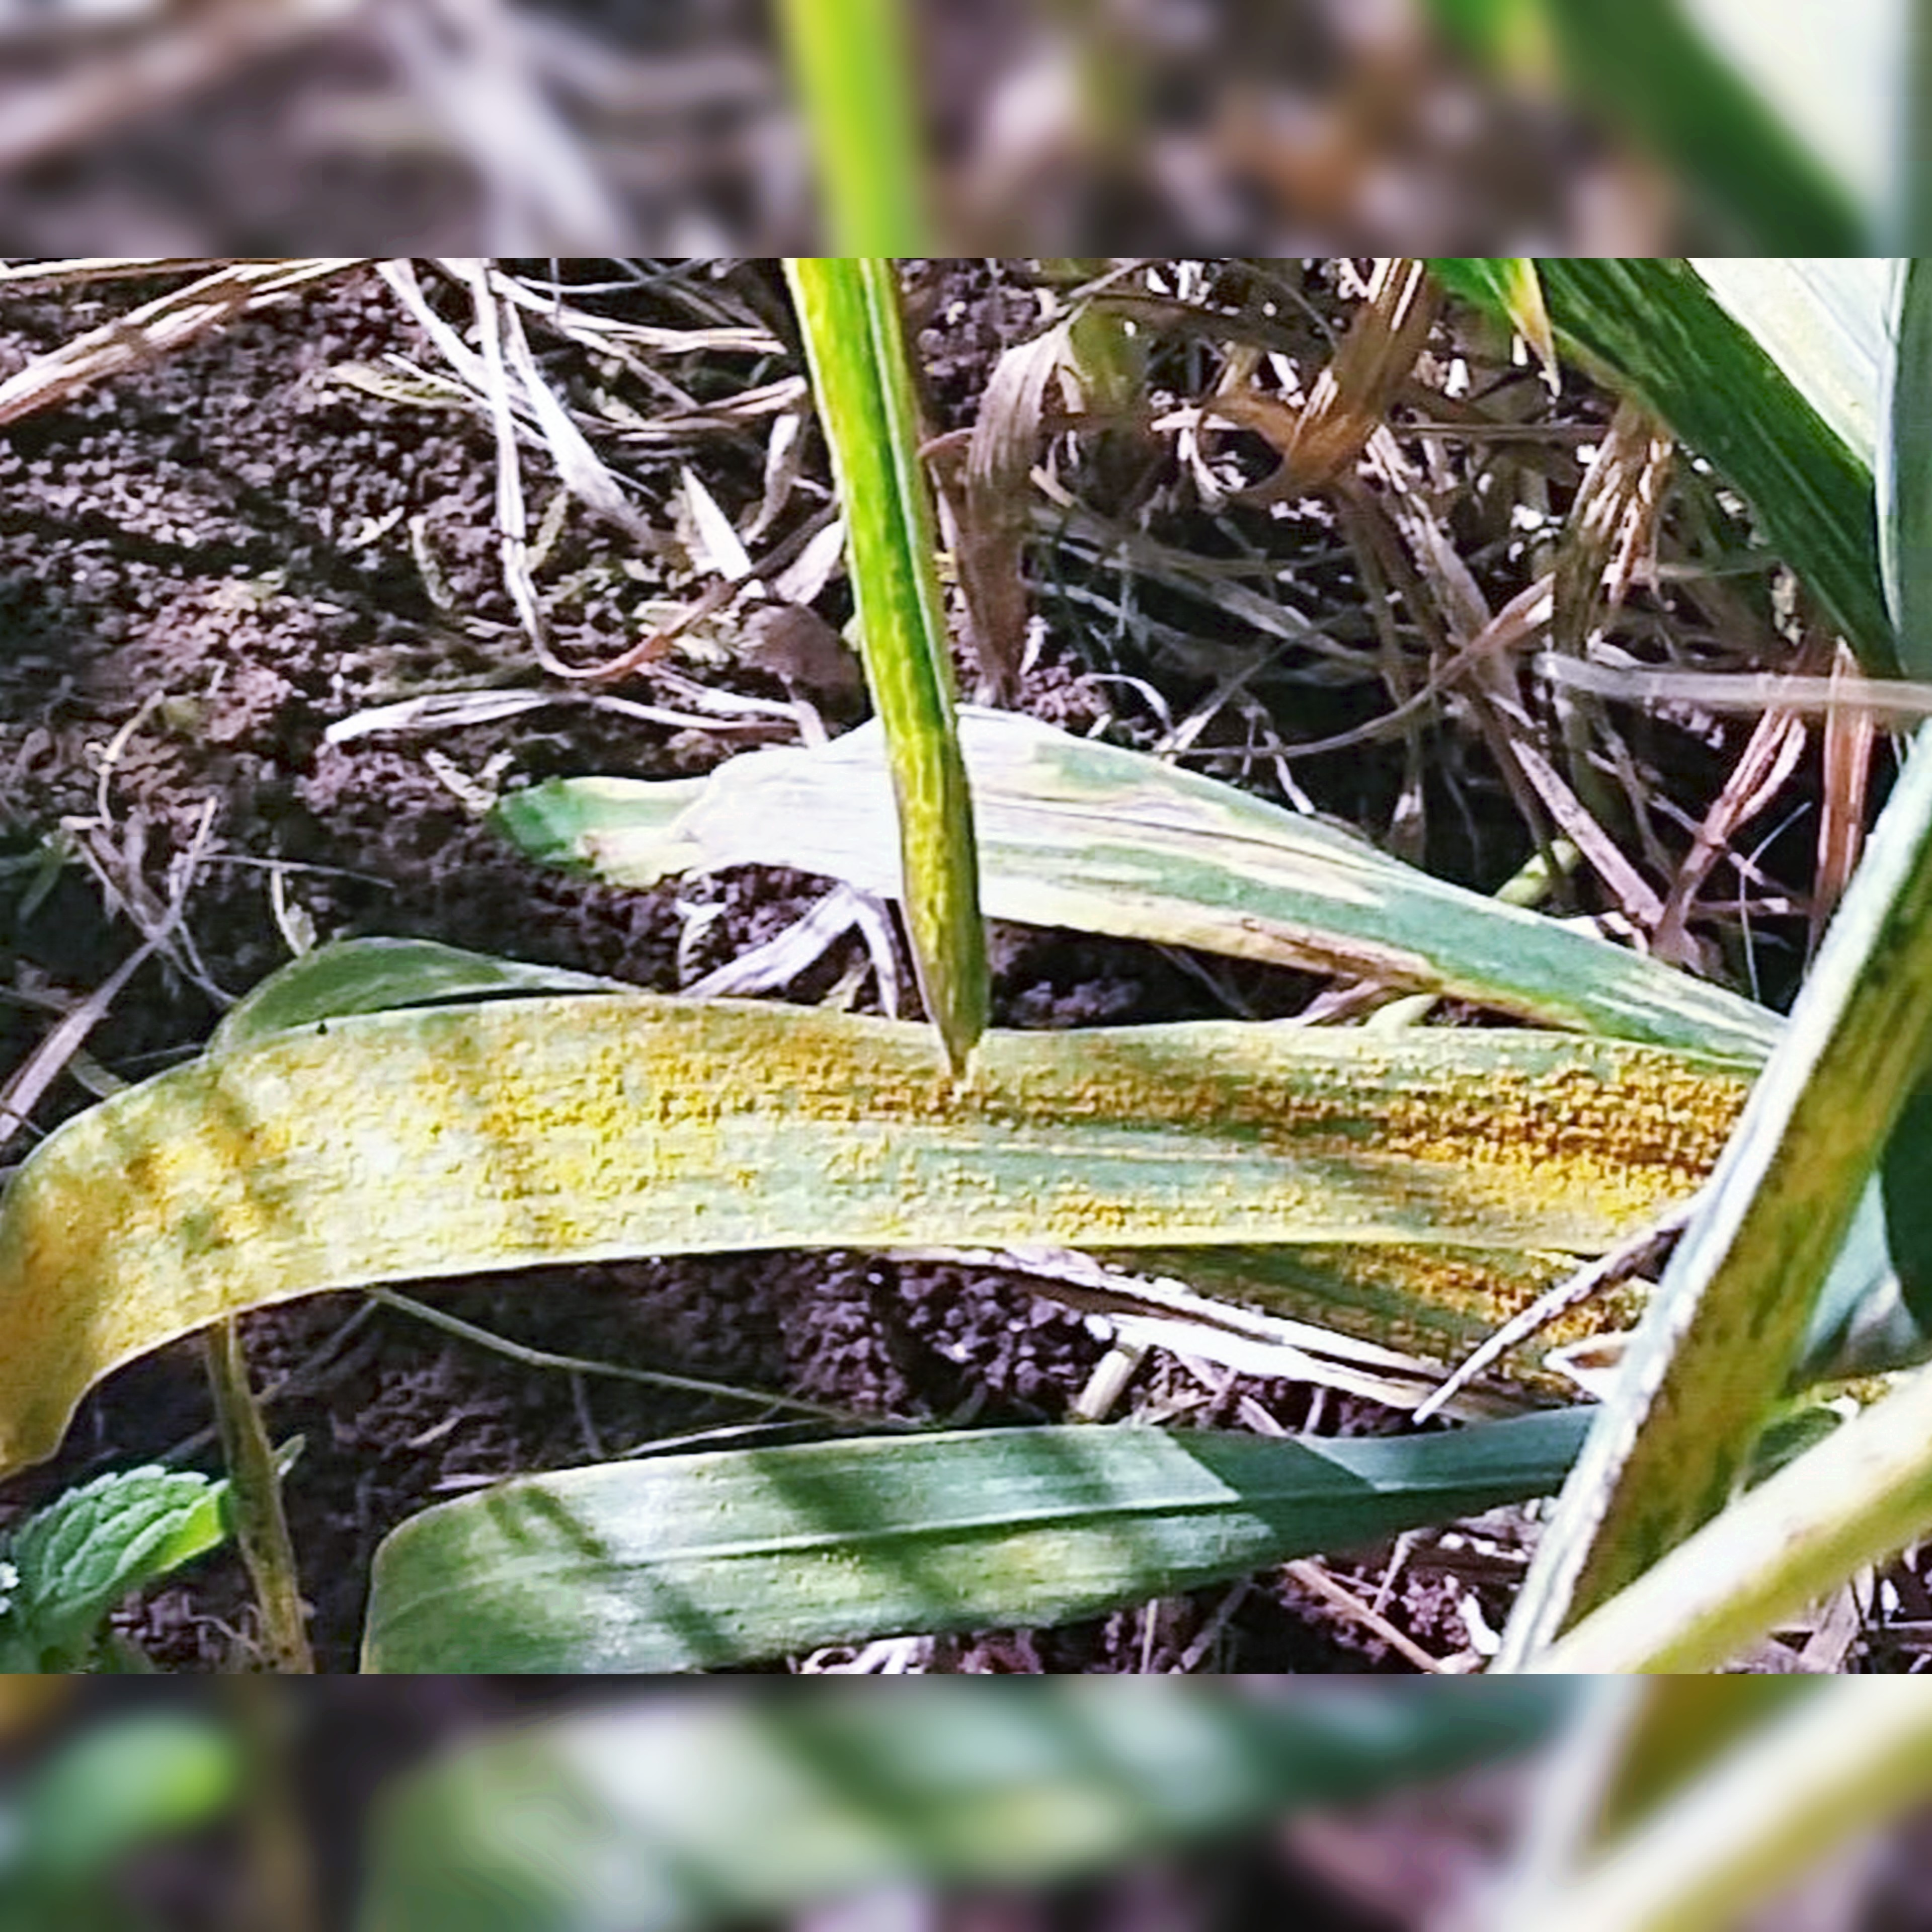Leaf Rust: (214, 968, 1808, 1272)
